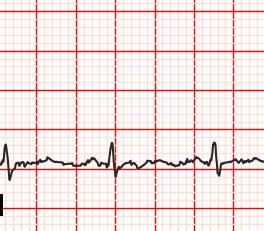Poor R Progression: (101, 141, 124, 171), (206, 140, 225, 169), (0, 145, 18, 171)
